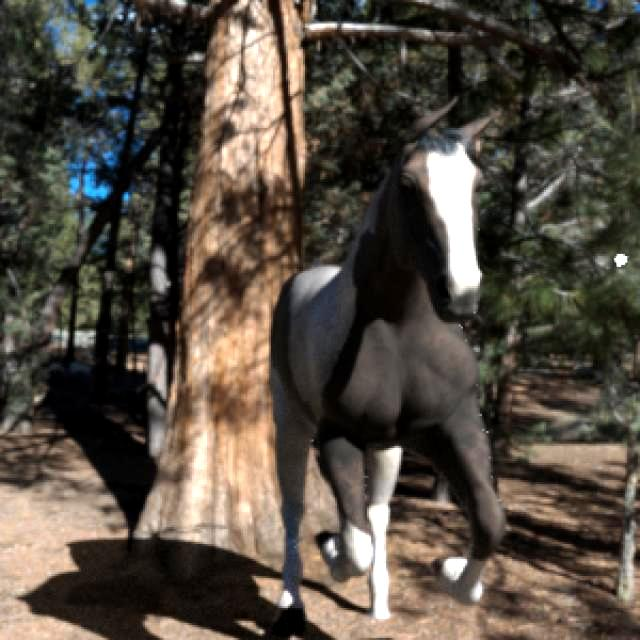horse: (270, 104, 505, 634)
